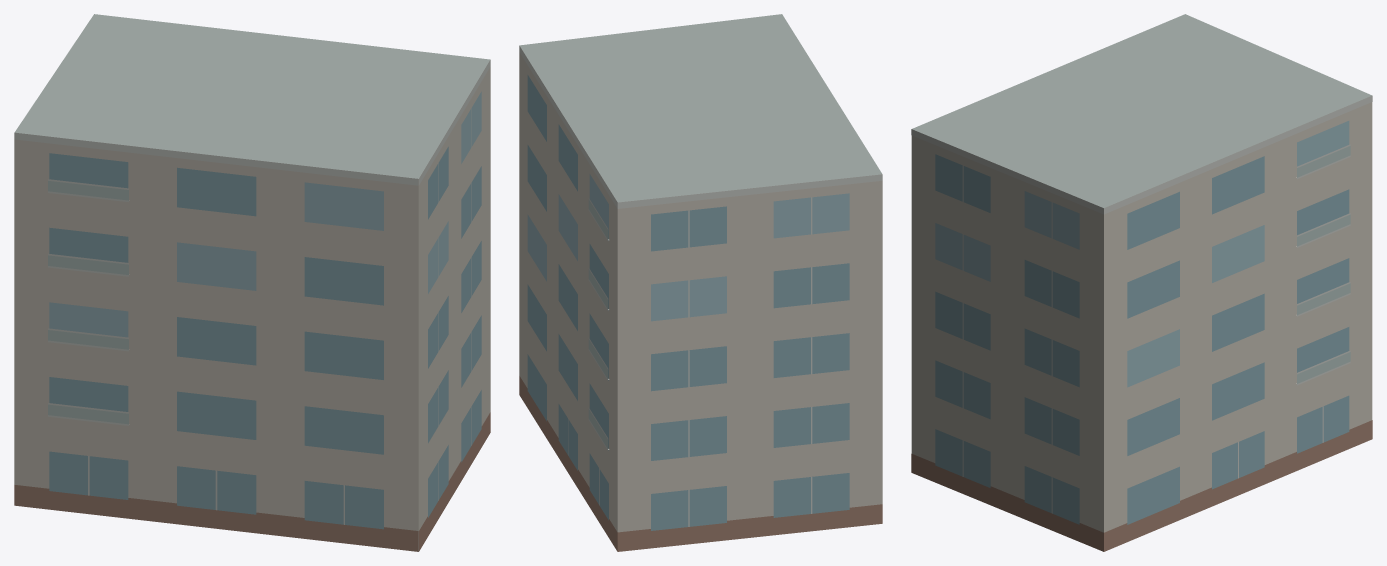
Rendered from survey-upis-32982276.glb.
3 views of the same model, side by side, from view 1: azimuth 30°, elevation 25°; view 2: azimuth 150°, elevation 25°; view 3: azimuth 270°, elevation 25° (orthographic). The views are drawn at different scales.
Parts seen in each view (by area): view 1: survey-upis-32982276.tmp; view 2: survey-upis-32982276.tmp; view 3: survey-upis-32982276.tmp.
Part boxes in pixels (x1,y1,x2,y2): survey-upis-32982276.tmp: (14,14,490,551); survey-upis-32982276.tmp: (519,14,882,551); survey-upis-32982276.tmp: (911,14,1372,551).
Bounding box in the file's own units: 16.07 × 13.25 × 16.11.
